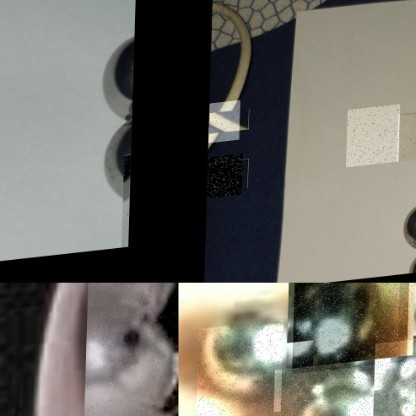ironball: (85, 282, 178, 415), (292, 282, 410, 379), (197, 324, 283, 415), (272, 363, 415, 415), (346, 109, 400, 171), (373, 342, 415, 415), (98, 36, 135, 117), (102, 118, 128, 204), (207, 155, 243, 199), (208, 101, 240, 144), (397, 115, 415, 167)
